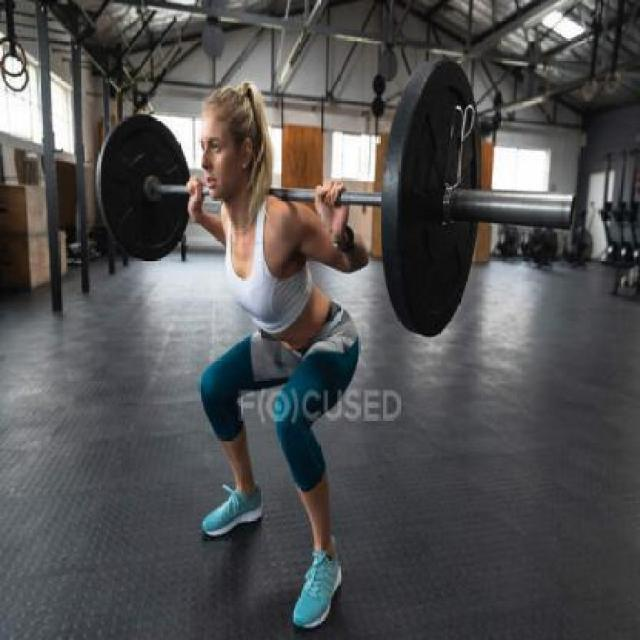Barbell: (550, 183, 578, 237)
